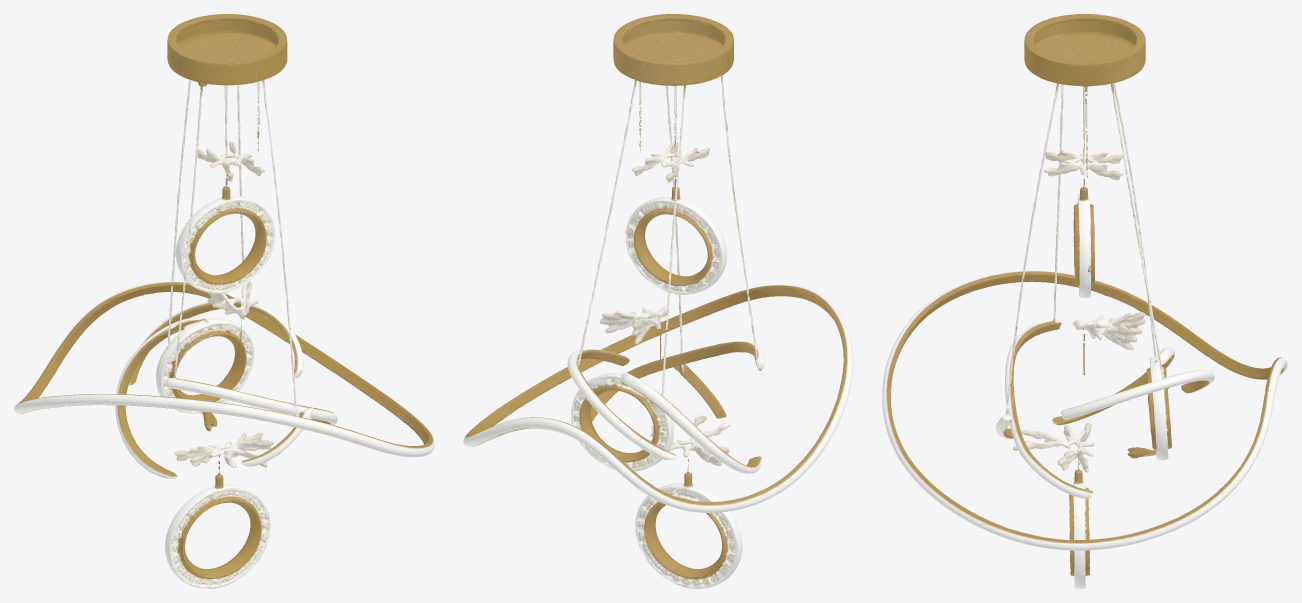
The model's file is LED Chandelier.glb.
3 renders of one model, left to right at view 1: azimuth 30°, elevation 25°; view 2: azimuth 150°, elevation 25°; view 3: azimuth 270°, elevation 25°, orthographic.
Parts seen in each view (by area): view 1: mesh_node; view 2: mesh_node; view 3: mesh_node.
Part boxes in pixels (left/top/right/bottom): mesh_node: left=14, top=14, right=434, bottom=588; mesh_node: left=463, top=14, right=853, bottom=588; mesh_node: left=882, top=14, right=1287, bottom=588.
Bounding box in the file's own units: 1.29 × 1.9 × 1.27.
Materials: 1 (1 with a texture image).
